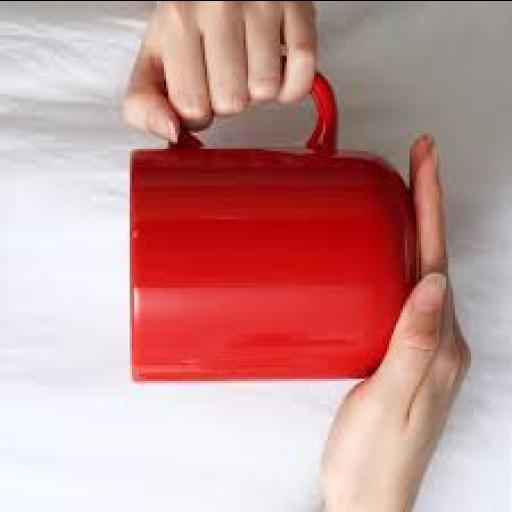red mug: (132, 77, 414, 378)
